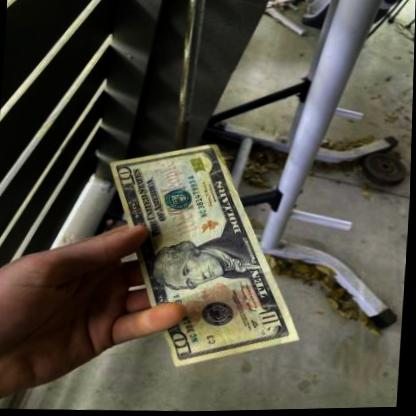ten-front: (111, 144, 303, 367)
